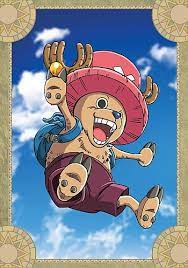chopper: (32, 40, 166, 232)
